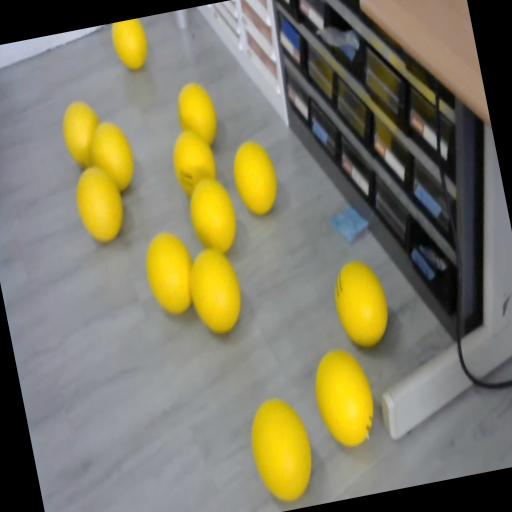FUEL: (242, 392, 320, 506), (306, 344, 382, 452), (327, 254, 394, 350), (183, 244, 248, 338), (140, 227, 202, 317), (184, 174, 242, 258), (71, 164, 130, 246), (228, 136, 284, 218), (172, 78, 222, 150), (58, 98, 108, 170), (109, 18, 152, 74)
